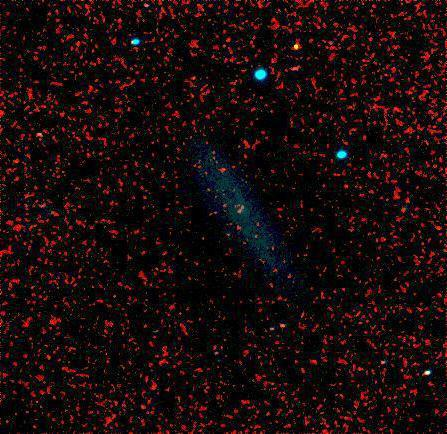star: (282, 31, 312, 61)
